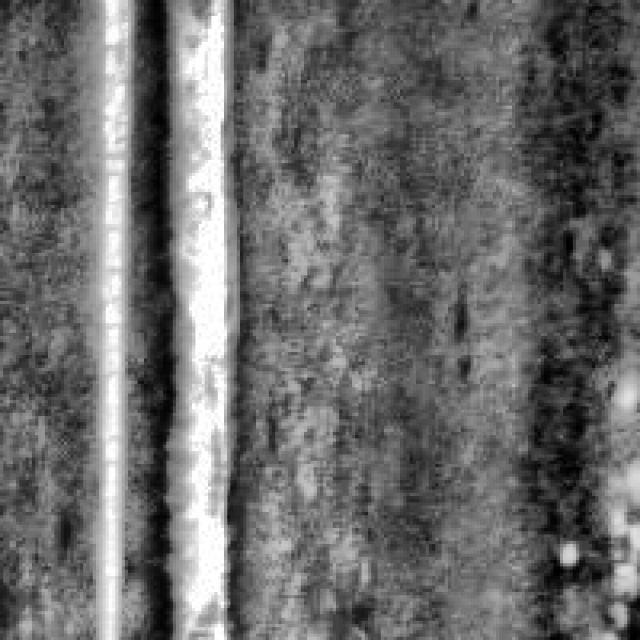Inclusion: (148, 0, 236, 634), (90, 0, 138, 634)
Patches: (438, 272, 480, 384)
